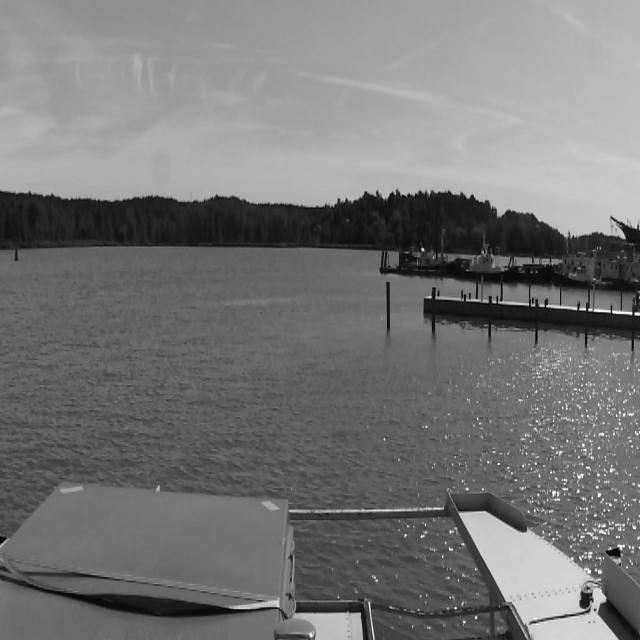ship: (462, 244, 518, 284), (552, 260, 594, 288)
